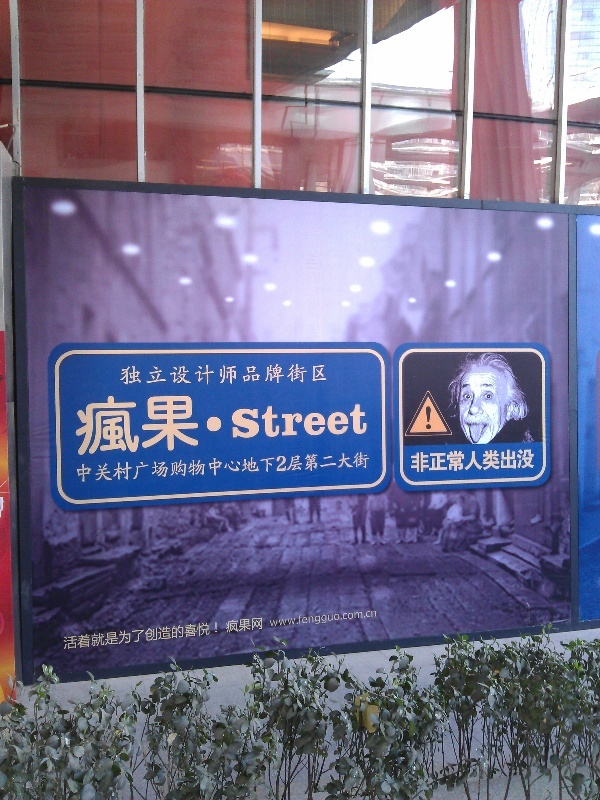text: (353, 389, 369, 457), (81, 389, 96, 457), (97, 389, 112, 457), (113, 389, 128, 457), (129, 389, 144, 457), (145, 389, 160, 457), (161, 389, 176, 457), (177, 389, 192, 457), (193, 389, 208, 457), (209, 389, 224, 457), (225, 389, 240, 457), (241, 389, 256, 457), (257, 389, 272, 457), (273, 389, 288, 457), (289, 389, 304, 457), (305, 389, 320, 457), (321, 389, 336, 457), (337, 389, 352, 457), (81, 449, 96, 484), (97, 449, 112, 484), (113, 449, 128, 484), (129, 449, 144, 484), (145, 449, 160, 484), (161, 449, 176, 484), (177, 449, 192, 484), (193, 449, 208, 484), (209, 449, 224, 484), (225, 449, 240, 484), (241, 449, 256, 484), (257, 449, 272, 484), (273, 449, 288, 484), (289, 449, 304, 484), (305, 449, 320, 484), (321, 449, 336, 484), (337, 449, 352, 484), (353, 449, 368, 484), (65, 616, 80, 651), (81, 616, 96, 651), (97, 616, 112, 651), (113, 616, 128, 651), (129, 616, 144, 651), (145, 616, 160, 651), (161, 616, 176, 651), (177, 616, 192, 651), (193, 616, 208, 651), (209, 616, 224, 651), (225, 616, 240, 651), (241, 616, 256, 651), (73, 389, 80, 457), (417, 447, 432, 475), (433, 447, 448, 475), (449, 447, 464, 475), (465, 447, 480, 475), (481, 447, 496, 475), (497, 447, 512, 475), (513, 447, 528, 475), (129, 360, 144, 388), (145, 360, 160, 388), (161, 360, 176, 388), (177, 360, 192, 388), (193, 360, 208, 388), (209, 360, 224, 388), (225, 360, 240, 388), (241, 360, 256, 388), (257, 360, 272, 388), (273, 360, 288, 388), (289, 360, 304, 388), (305, 360, 320, 388), (273, 607, 288, 630), (289, 607, 304, 630), (305, 607, 320, 630), (321, 607, 336, 630), (337, 607, 352, 630), (353, 607, 368, 630), (257, 616, 266, 651), (119, 360, 128, 388), (369, 607, 378, 630), (529, 447, 536, 475), (321, 360, 328, 388), (410, 447, 416, 475), (76, 449, 80, 484), (269, 607, 272, 630), (369, 449, 370, 484), (63, 616, 64, 651)
